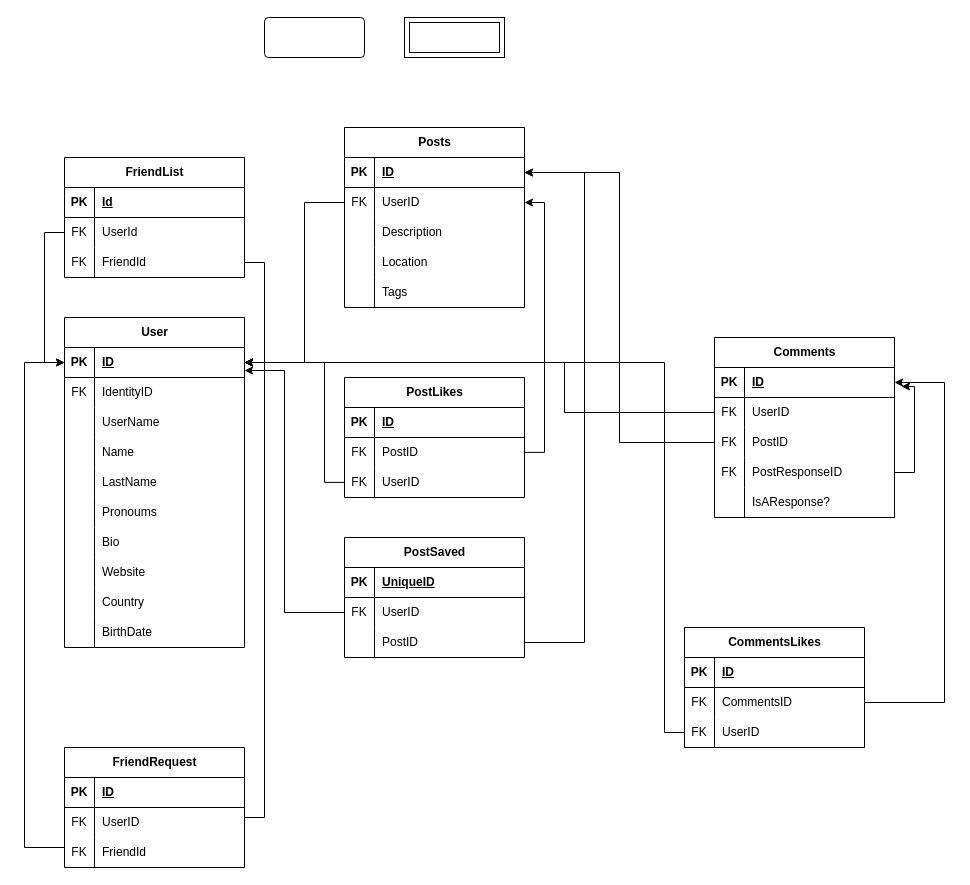
The diagram is 970 pixels wide and 885 high, and some of its shapes have lost their labels. The shapes that lost their labels are listed below. From the top down, each one's centre as x and y in pixels, then its label:
point (314, 37): IdentityTable
point (454, 37): AuditableBase
